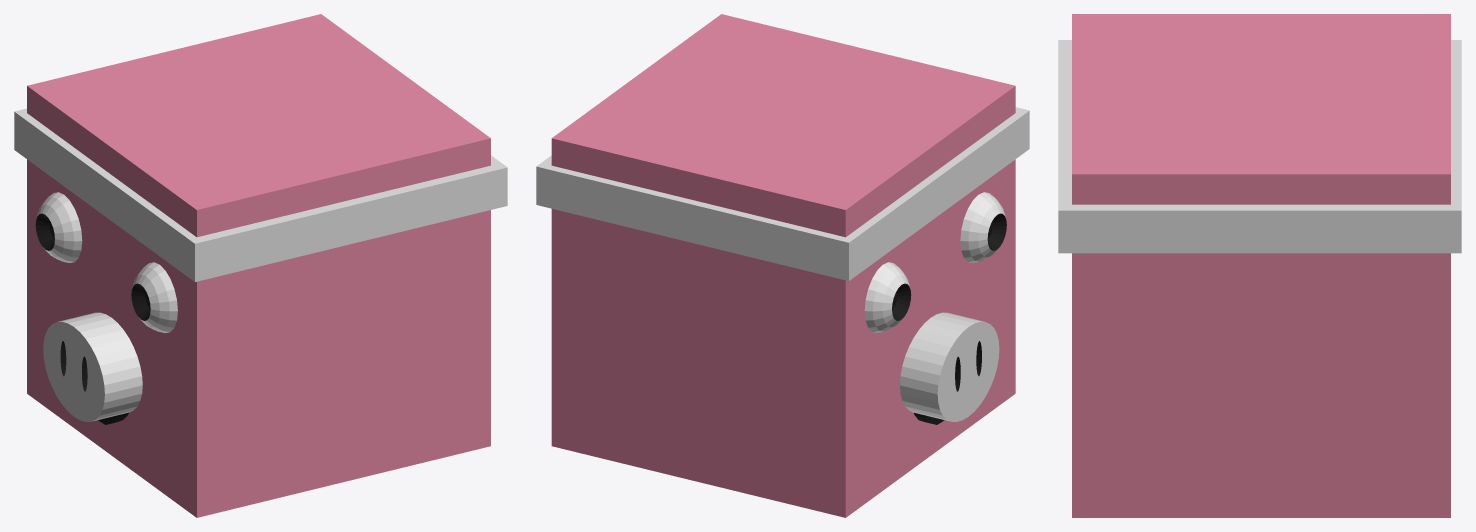
The model's file is pig.fbx.
3 views of the same model, side by side, from view 1: azimuth 30°, elevation 25°; view 2: azimuth 150°, elevation 25°; view 3: azimuth 270°, elevation 25° (orthographic). The views are drawn at different scales.
Visible parts, largest first — view 1: Pig; view 2: Pig; view 3: Pig.
Part boxes in pixels (x1,y1,x2,y2): Pig: (14, 14, 507, 517); Pig: (536, 14, 1029, 517); Pig: (1058, 14, 1461, 517).
Bounding box in the file's own units: 139 × 120 × 127.
